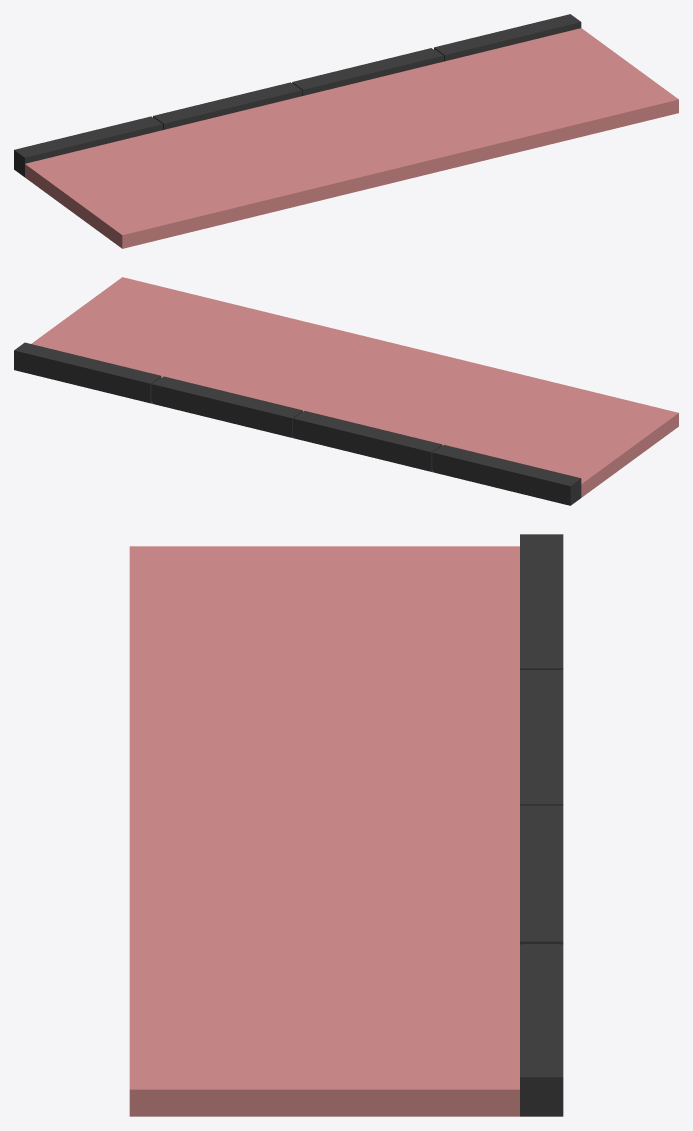
File: Side_Walk.fbx
3 views of the same model, one above another, from view 1: azimuth 30°, elevation 25°; view 2: azimuth 150°, elevation 25°; view 3: azimuth 270°, elevation 25° (orthographic). The views are drawn at different scales.
Parts seen in each view (by area): view 1: Side_Walk; view 2: Side_Walk; view 3: Side_Walk.
Part boxes in pixels (x1,y1,x2,y2): Side_Walk: (14, 14, 678, 248); Side_Walk: (14, 277, 678, 505); Side_Walk: (129, 534, 563, 1116).
Size of the model in its own units: 92.42 by 3.12 by 31.2.
